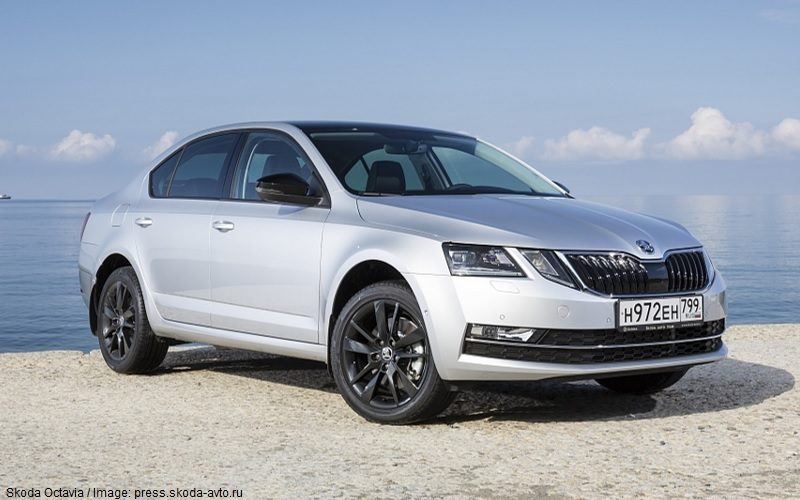car_front: (446, 216, 732, 395)
plate: (619, 294, 703, 326)
